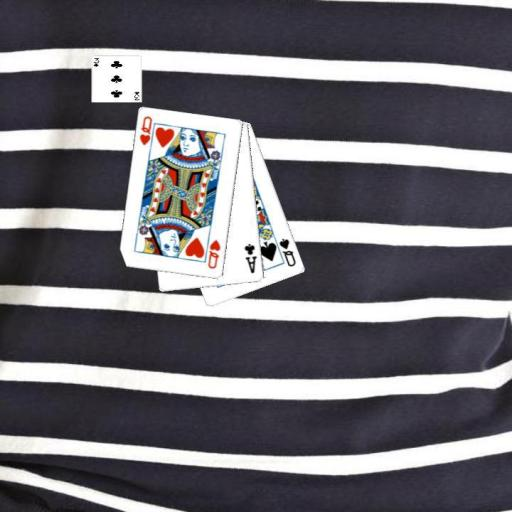AC: (242, 241, 259, 275)
QH: (137, 113, 157, 152), (205, 237, 222, 270)
QS: (276, 235, 297, 268)
